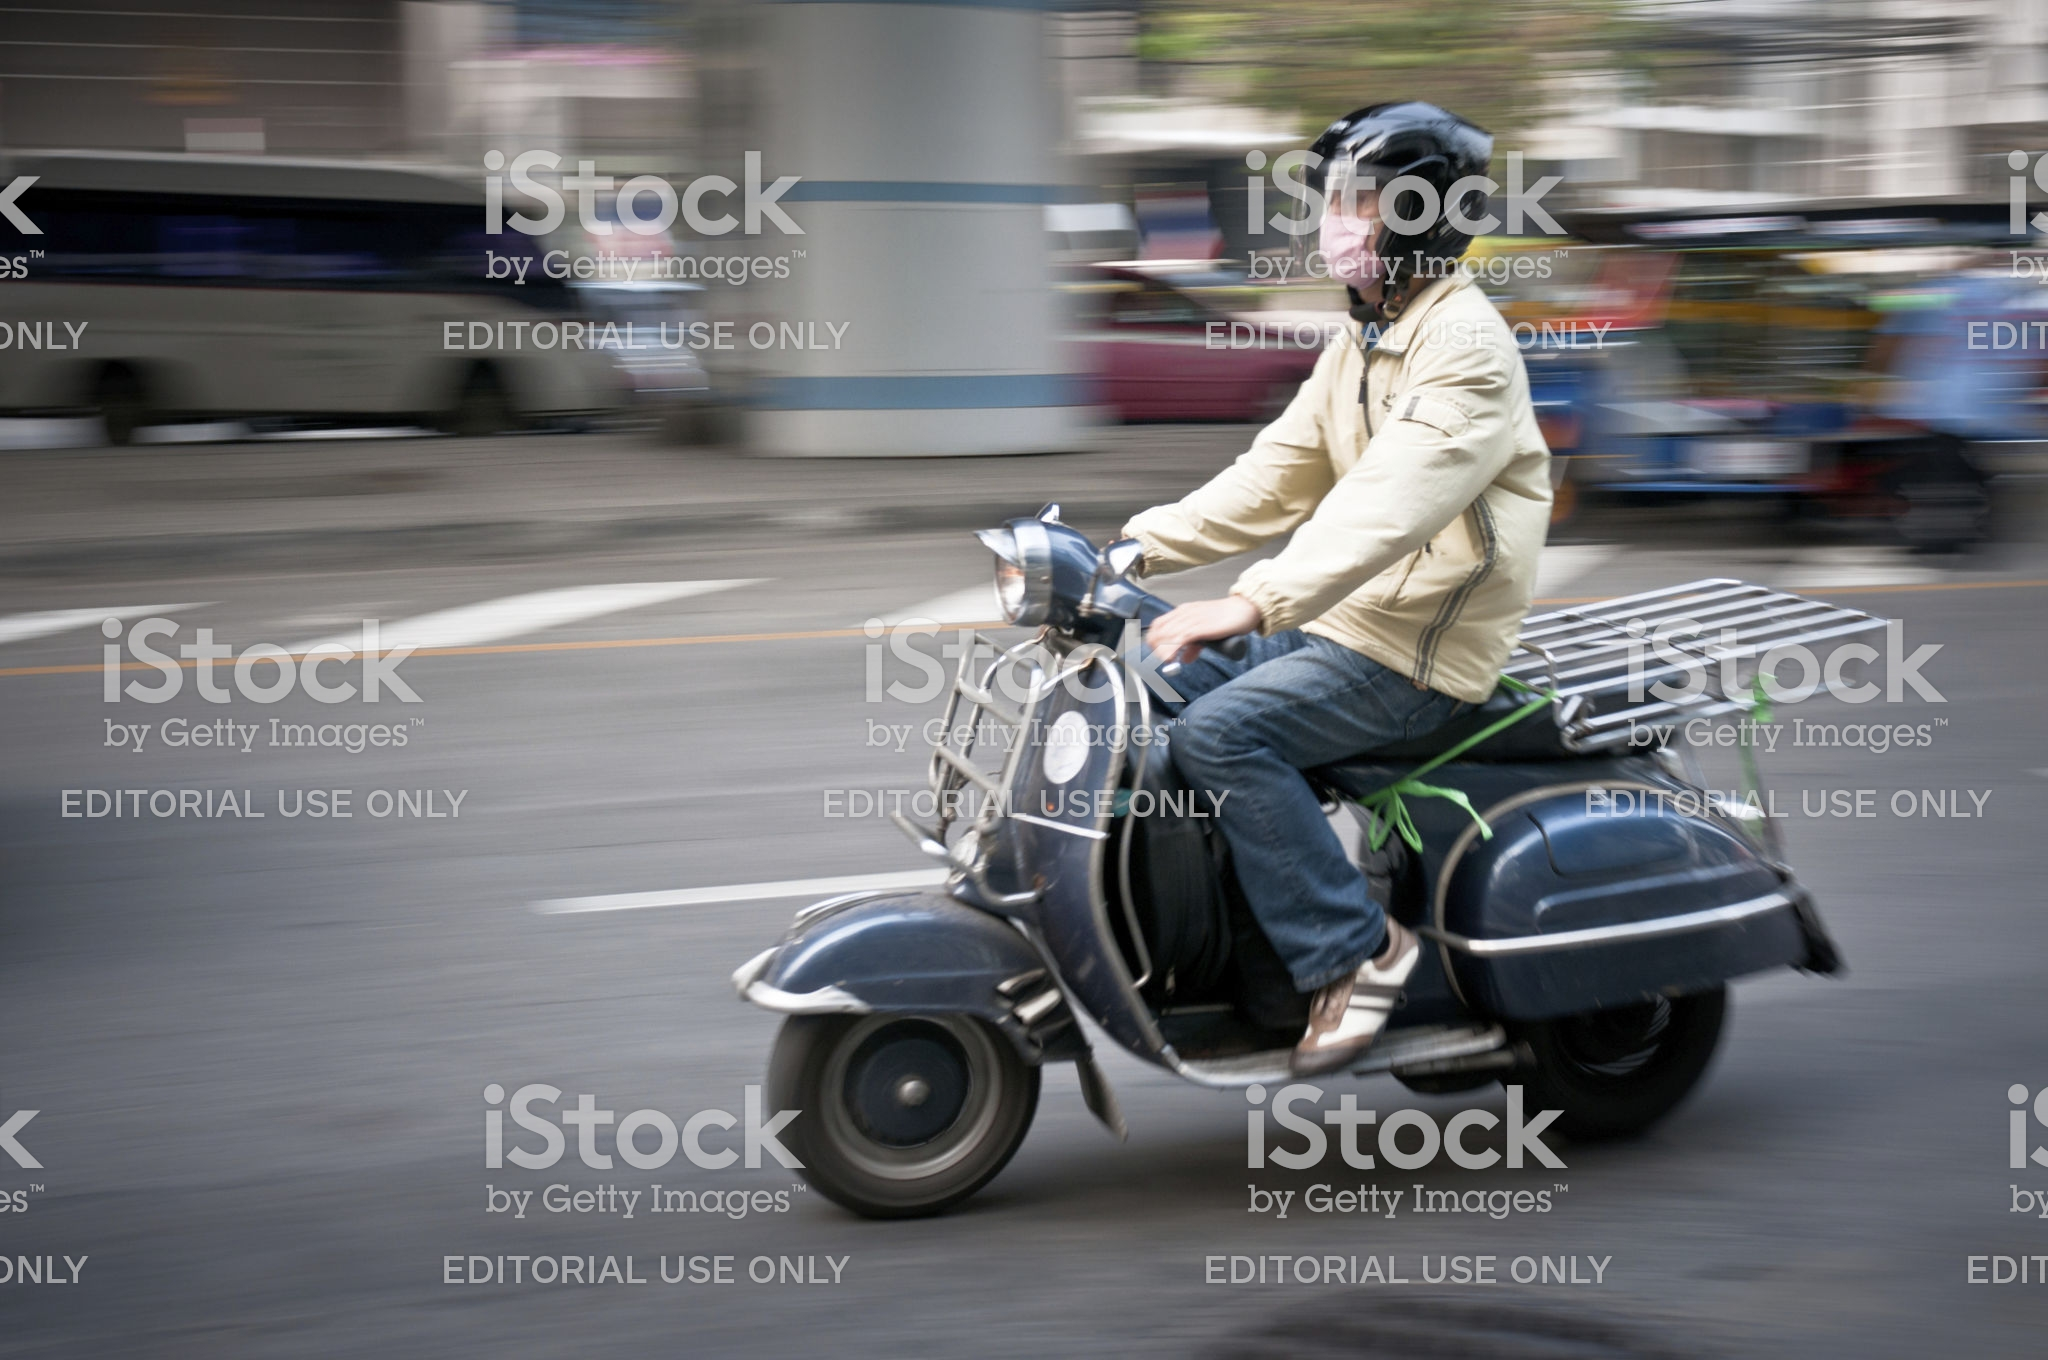helmet: (1294, 87, 1484, 272)
